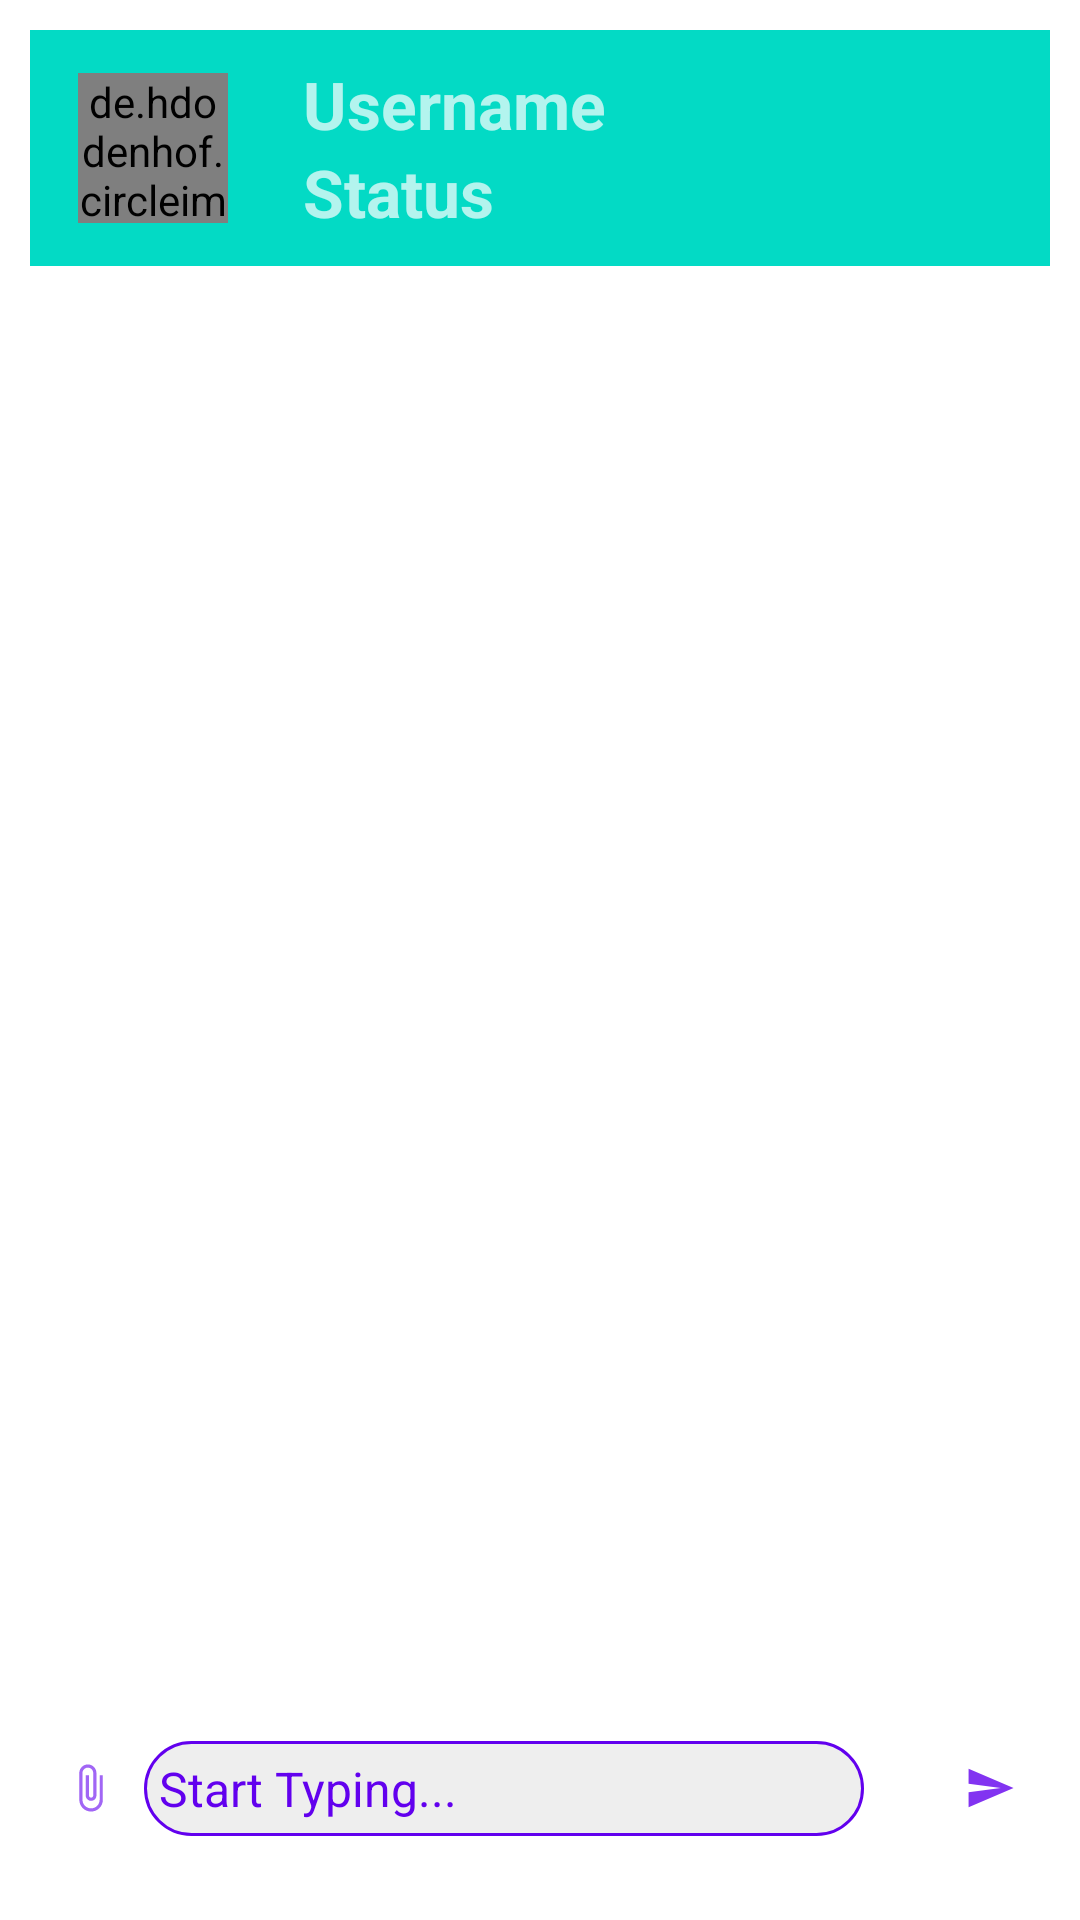

Icon click points for this 1080 x 1920 phone screenshot, format [x,y]:
att: [91,1788]
send: [990,1788]
